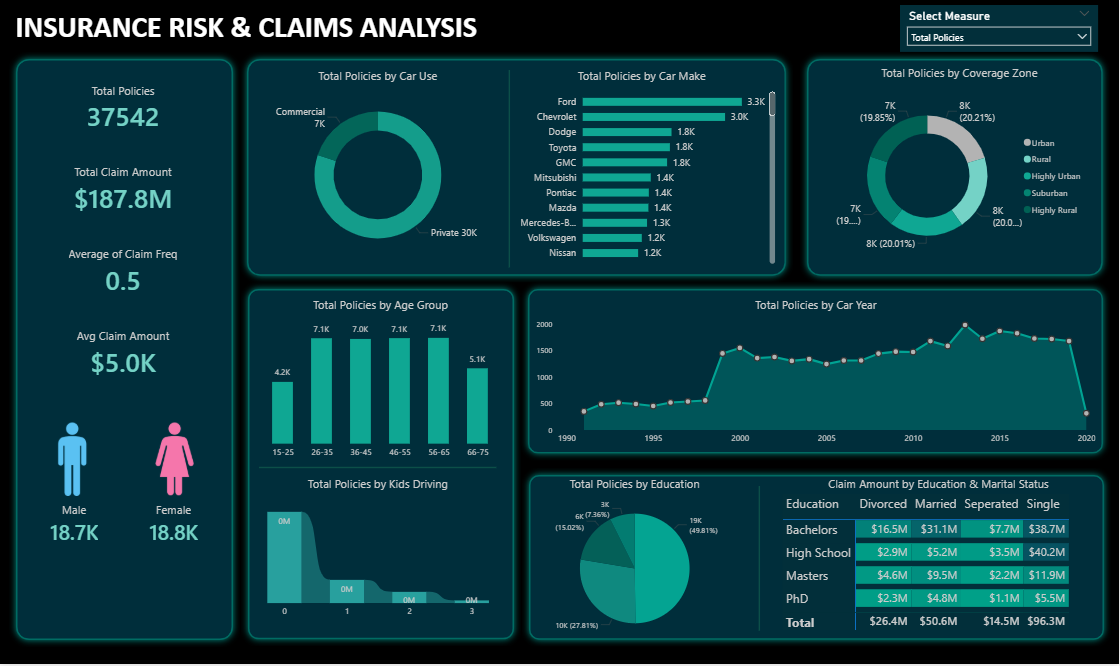

Layout of this report page (visuals, bound fields, positions):
{"tool":"powerbi","page":{"name":"Page 1","canvas":[1600,950],"ordinal":0},"visuals":[{"type":"textbox","box":[18.8,8.8,682.5,62.5],"z":0},{"type":"shape","box":[13.8,75,330,850],"z":1000},{"type":"cardVisual","fields":{"Data":["insurance_data_car.Total Policies","insurance_data_car.Total Claim Amount","Avg(insurance_data_car.Claim Freq)","insurance_data_car.Avg  Claim Amount"]},"box":[43.5,101.4,269.6,459.4],"z":2000},{"type":"cardVisual","fields":{"Data":["insurance_data_car.Male Count","insurance_data_car.Female Count"]},"box":[41,694.9,274.4,110.3],"z":3000},{"type":"image","box":[47.4,600,115.4,115.4],"z":4000},{"type":"image","box":[192.3,600,115.4,114.1],"z":5000},{"type":"slicer","fields":{"Values":["Select Measure.Select Measure"]},"box":[1287.5,8.5,283.3,66.9],"z":6000},{"type":"shape","box":[343.6,75.6,789.7,329.5],"z":7000},{"type":"donutChart","fields":{"Y":["insurance_data_car.Total Policies"],"Category":["insurance_data_car.Car Use"]},"box":[371.8,98.7,339.7,284.6],"z":8000},{"type":"clusteredBarChart","fields":{"Y":["insurance_data_car.Total Policies"],"Category":["insurance_data_car.Car Make"]},"box":[723.1,98.7,391,284.6],"z":9000},{"type":"shape","box":[1143.6,75.6,442.3,329.5],"z":10000},{"type":"donutChart","fields":{"Y":["insurance_data_car.Total Policies"],"Category":["insurance_data_car.Coverage Zone"]},"box":[1184.6,93.6,375.6,294.9],"z":11000},{"type":"shape","box":[345.3,404.9,400,520.4],"z":12000},{"type":"clusteredColumnChart","fields":{"Y":["insurance_data_car.Total Policies"],"Category":["insurance_data_car.Age Group"]},"box":[363.5,425.5,364.7,239.5],"z":13000},{"type":"ribbonChart","fields":{"Y":["insurance_data_car.Total Policies"],"Category":["insurance_data_car.Kids Driving"]},"box":[367.2,682.1,348.9,211.6],"z":14000},{"type":"shape","box":[745.3,404.9,841.3,255],"z":15000},{"type":"areaChart","fields":{"Y":["insurance_data_car.Total Policies"],"Category":["insurance_data_car.Car Year"]},"box":[762.3,425.5,808.5,220.1],"z":16000},{"type":"shape","box":[746.5,669.9,841.3,255.3],"z":17000},{"type":"pieChart","fields":{"Y":["insurance_data_car.Total Policies"],"Category":["insurance_data_car.Education"]},"box":[746.5,682.1,322.2,243.2],"z":18000},{"type":"pivotTable","title":"Claim Amount by Education & Marital Status","fields":{"Rows":["insurance_data_car.Education"],"Columns":["insurance_data_car.Marital Status"],"Values":["insurance_data_car.Total Claim Amount"]},"box":[1114.9,682.1,455.9,229.8],"z":19000},{"type":"shape","box":[711.2,100.9,35.3,282.1],"z":20000},{"type":"shape","box":[1068.7,695.4,35.3,206.7],"z":21000},{"type":"shape","box":[372,652.9,339.2,32.8],"z":22000}]}

Visuals, with their boxes in screenshot pixels (x1, y1, x2, y2), scaled from the page's 1600x950 canvas onto the 1120x666 screenshot:
textbox: (13,6,491,50)
shape: (10,53,241,648)
cardVisual - insurance_data_car.Total Policies x insurance_data_car.Total Claim Amount: (30,71,219,393)
cardVisual - insurance_data_car.Male Count x insurance_data_car.Female Count: (29,487,221,564)
image: (33,421,114,502)
image: (135,421,215,501)
slicer - Select Measure.Select Measure: (901,6,1100,53)
shape: (241,53,793,284)
donutChart - insurance_data_car.Total Policies x insurance_data_car.Car Use: (260,69,498,269)
clusteredBarChart - insurance_data_car.Total Policies x insurance_data_car.Car Make: (506,69,780,269)
shape: (801,53,1110,284)
donutChart - insurance_data_car.Total Policies x insurance_data_car.Coverage Zone: (829,66,1092,272)
shape: (242,284,522,649)
clusteredColumnChart - insurance_data_car.Total Policies x insurance_data_car.Age Group: (254,298,510,466)
ribbonChart - insurance_data_car.Total Policies x insurance_data_car.Kids Driving: (257,478,501,627)
shape: (522,284,1111,463)
areaChart - insurance_data_car.Total Policies x insurance_data_car.Car Year: (534,298,1100,453)
shape: (523,470,1111,649)
pieChart - insurance_data_car.Total Policies x insurance_data_car.Education: (523,478,748,649)
"Claim Amount by Education & Marital Status" pivotTable: (780,478,1100,639)
shape: (498,71,523,269)
shape: (748,488,773,632)
shape: (260,458,498,481)
